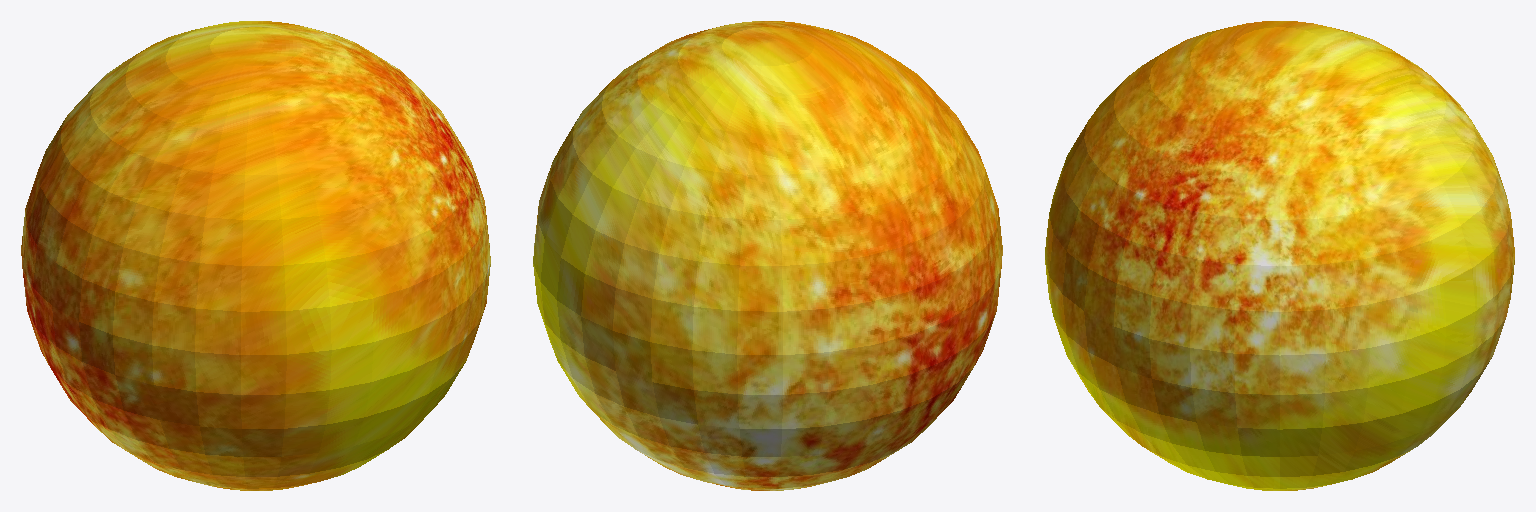
3 views of the same model, side by side, from view 1: azimuth 30°, elevation 25°; view 2: azimuth 150°, elevation 25°; view 3: azimuth 270°, elevation 25° (orthographic).
Parts seen in each view (by area): view 1: Sphere; view 2: Sphere; view 3: Sphere.
Boxes of the visible parts, <box> form: Sphere: <box>21,21,490,490</box>; Sphere: <box>533,21,1002,490</box>; Sphere: <box>1045,21,1514,490</box>.
Bounding box in the file's own units: 2 × 2 × 2.
Materials: 1 (1 with a texture image).